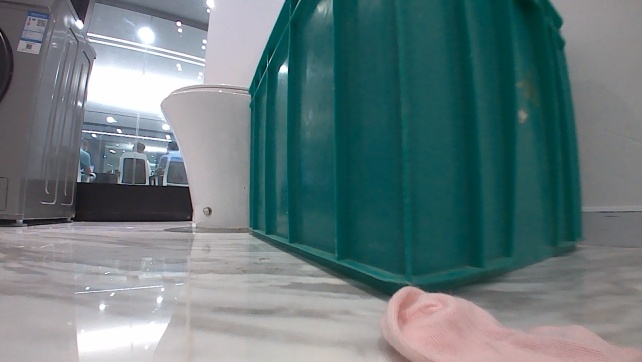socks: (382, 282, 641, 361)
toilet: (159, 81, 255, 232)
washing_machine: (0, 0, 98, 230)
